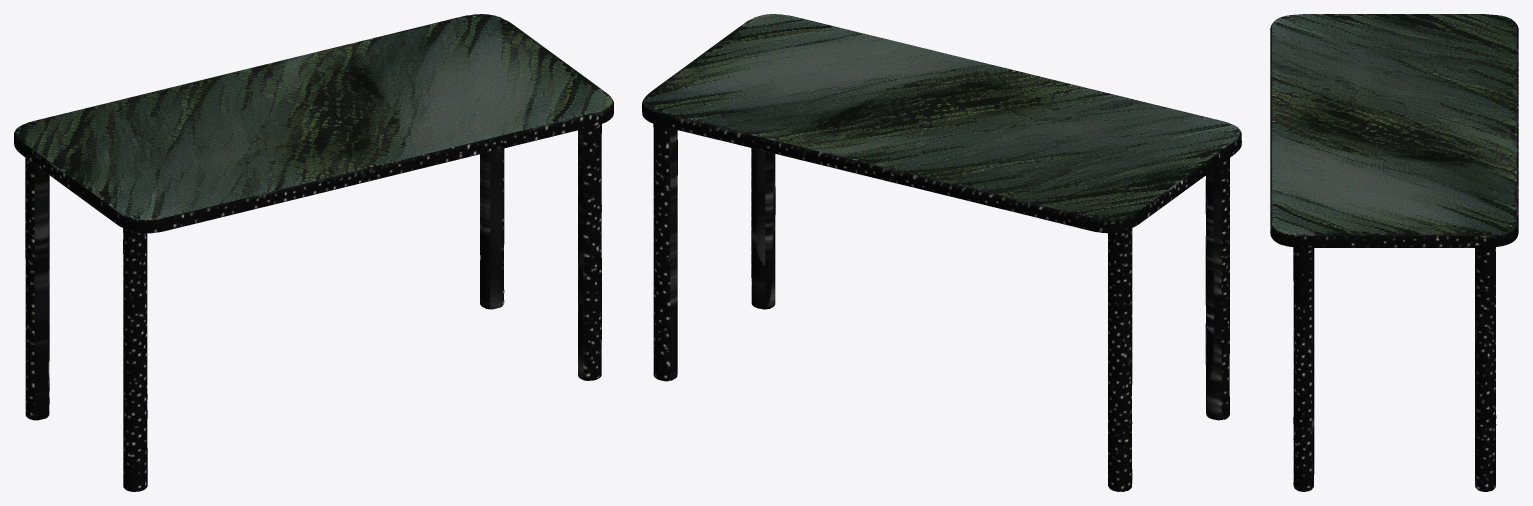
Rendered from desk__desk#5.glb.
3 views of the same model, side by side, from view 1: azimuth 30°, elevation 25°; view 2: azimuth 150°, elevation 25°; view 3: azimuth 270°, elevation 25° (orthographic). The views are drawn at different scales.
Parts seen in each view (by area): view 1: tmpqiivd392.ply; view 2: tmpqiivd392.ply; view 3: tmpqiivd392.ply.
Boxes of the visible parts, left/top/right/bottom form: tmpqiivd392.ply: left=14, top=14, right=613, bottom=491; tmpqiivd392.ply: left=642, top=14, right=1241, bottom=491; tmpqiivd392.ply: left=1270, top=14, right=1518, bottom=491.
Size of the model in its own units: 1.99 by 1.09 by 0.9397.
Materials: 1 (1 with a texture image).
